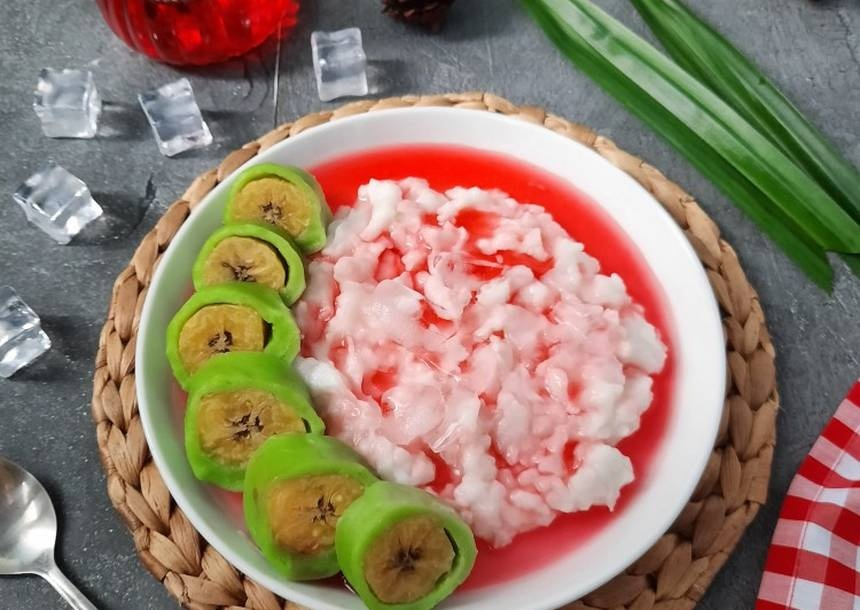pisang_ijo: (310, 462, 480, 610)
